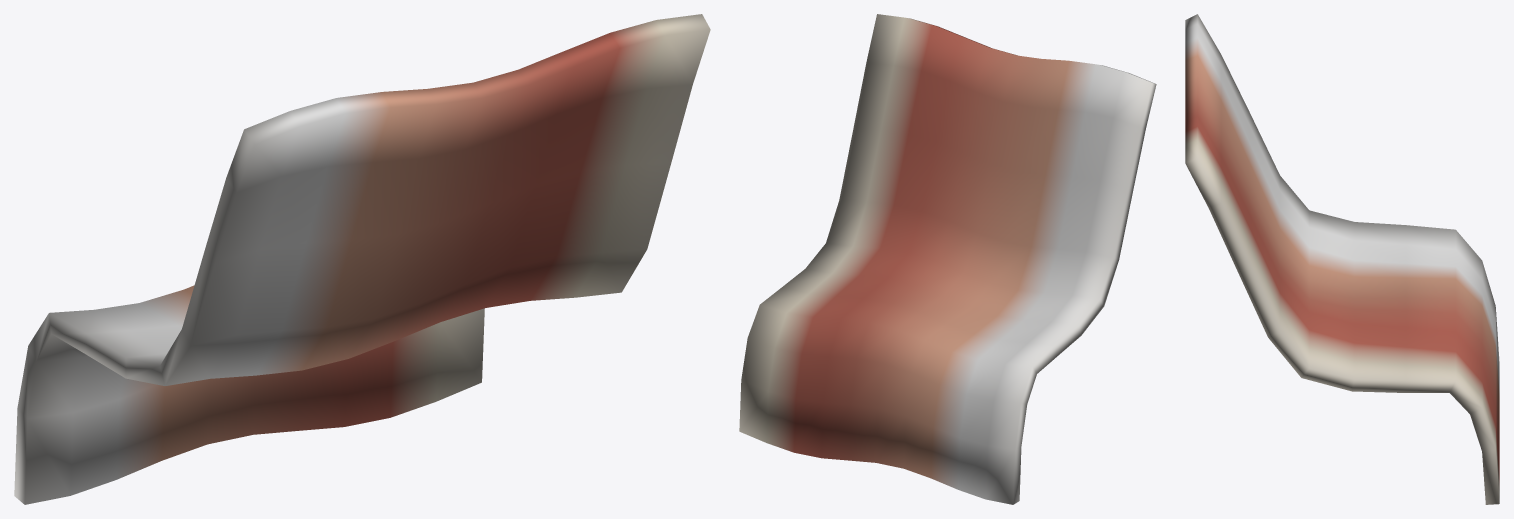
File: bench_blanket.glb
The picture shows the model from 3 angles, left to right: view 1: azimuth 30°, elevation 25°; view 2: azimuth 150°, elevation 25°; view 3: azimuth 270°, elevation 25°; orthographic projection. The views are drawn at different scales.
Visible parts, largest first — view 1: bench_blanket; view 2: bench_blanket; view 3: bench_blanket.
Part boxes in pixels (<box>): bench_blanket: <box>14,14,710,504</box>; bench_blanket: <box>739,14,1156,504</box>; bench_blanket: <box>1185,14,1499,504</box>.
Bounding box in the file's own units: 0.6231 × 0.7098 × 0.5637.
